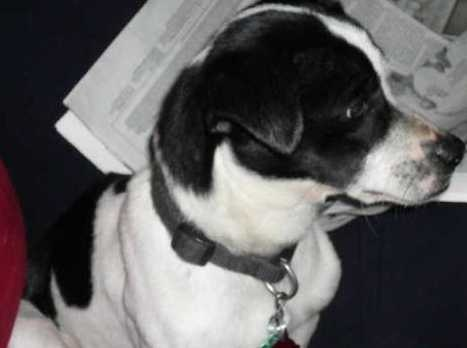Dog: (55, 0, 462, 347)
